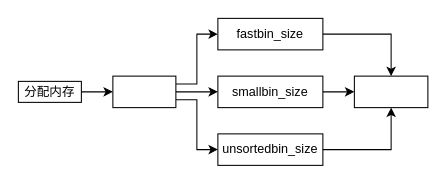
The diagram is 446 pixels wide and 184 high, and some of its shapes have lost their labels. The centre of each missing label's shape, as x and y in pixels:
判断大小: (144,91)
把链上trunk放入tcache: (390,91)
